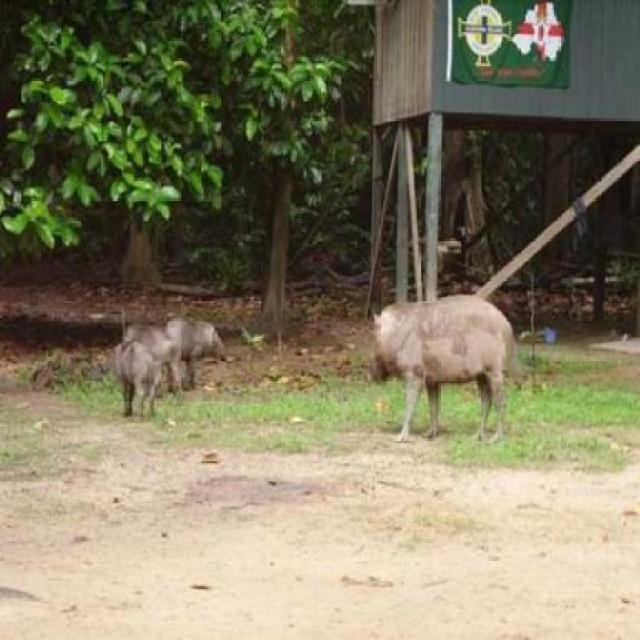Boar: (326, 255, 519, 443), (98, 314, 174, 429), (170, 303, 238, 422)
